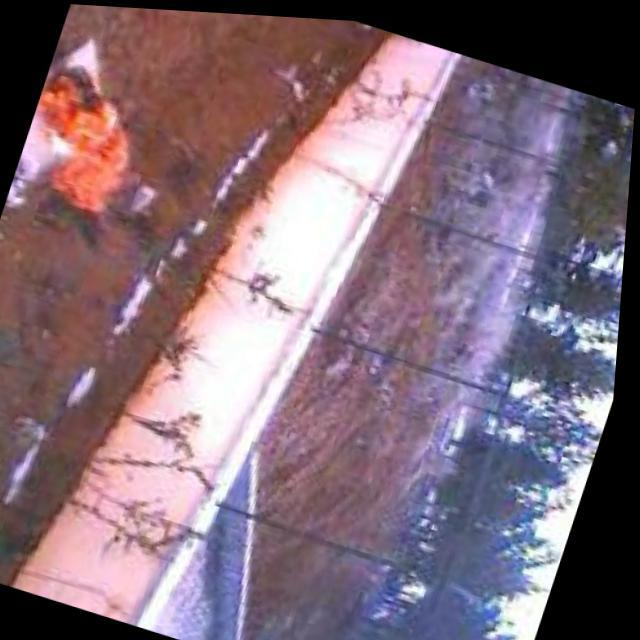fire: (8, 40, 176, 232)
